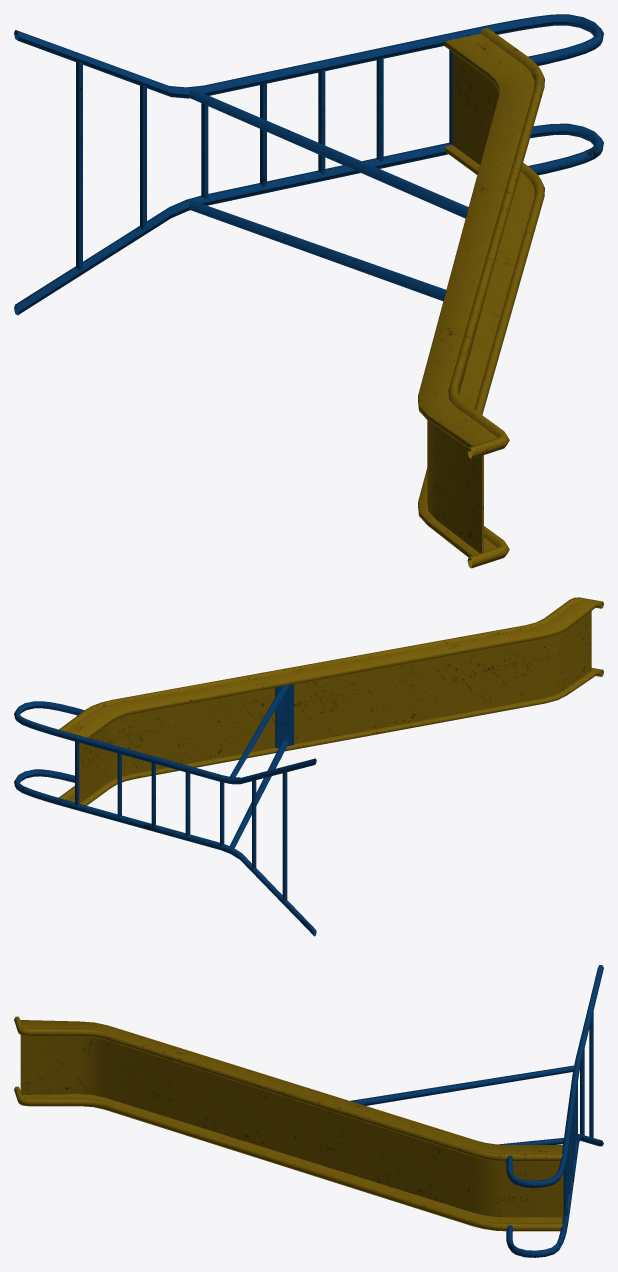
Rendered from cP_PlaygroundSlide02.dae.
3 renders of one model, top to bottom at view 1: azimuth 30°, elevation 25°; view 2: azimuth 150°, elevation 25°; view 3: azimuth 270°, elevation 25°, orthographic. The views are drawn at different scales.
Parts seen in each view (by area): view 1: cP_PlaygroundSlide02.001; view 2: cP_PlaygroundSlide02.001; view 3: cP_PlaygroundSlide02.001.
Boxes of the visible parts, <box> form: cP_PlaygroundSlide02.001: <box>14,14,603,568</box>; cP_PlaygroundSlide02.001: <box>14,597,603,936</box>; cP_PlaygroundSlide02.001: <box>14,965,603,1257</box>.
Bounding box in the file's own units: 3.64 × 5.47 × 1.85.
